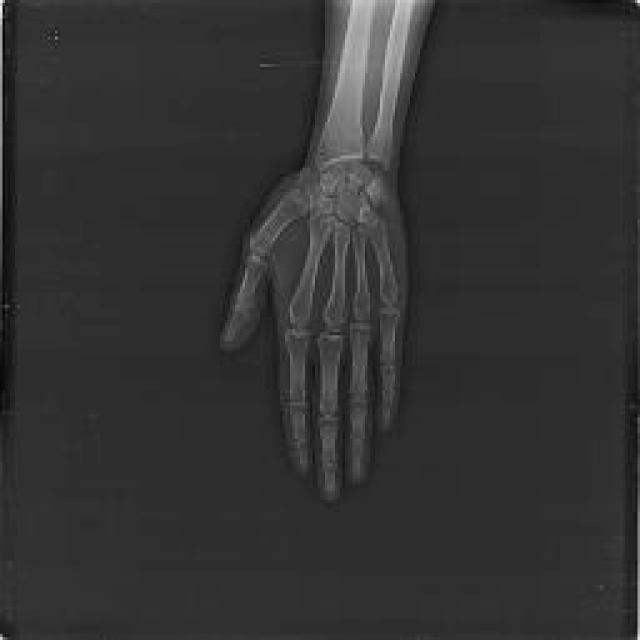normal: (224, 3, 413, 492)
